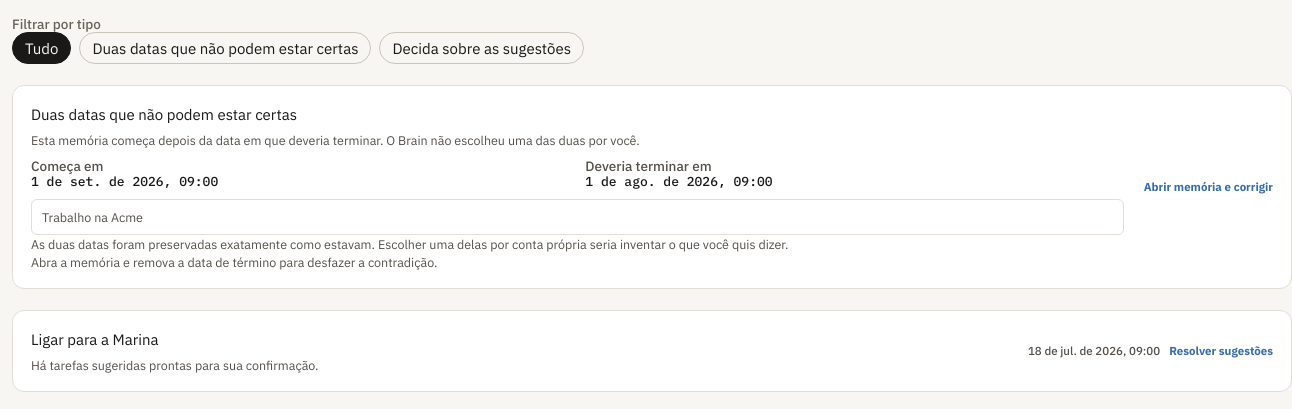
Test: the filter, widened by exactly one › returns everything when 'all' is selected again
This screenshot has width=1292, height=409.
Click the button "Duas datas que não podem estar certas": (226, 48) x1=80 y1=32 x2=372 y2=64
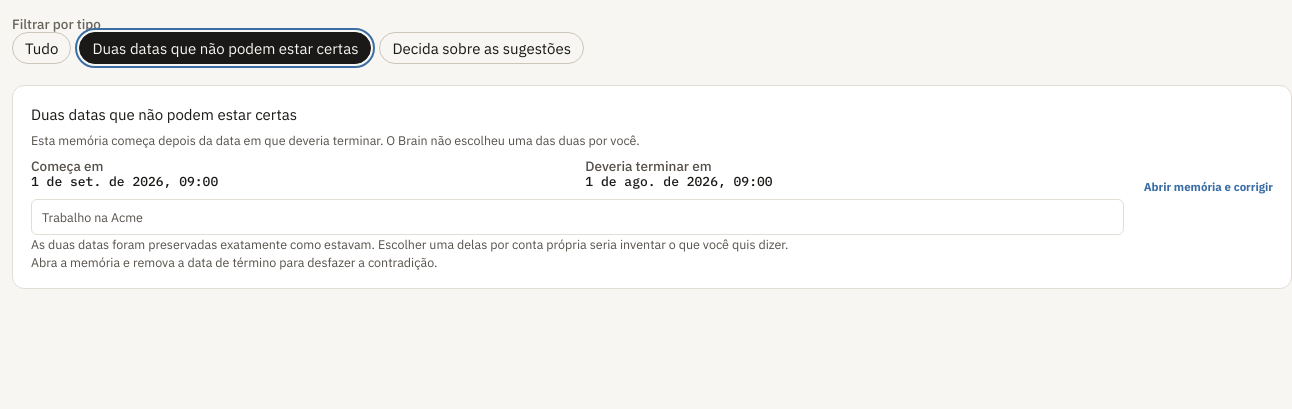
Click the button "Tudo": (42, 48) x1=12 y1=32 x2=72 y2=64
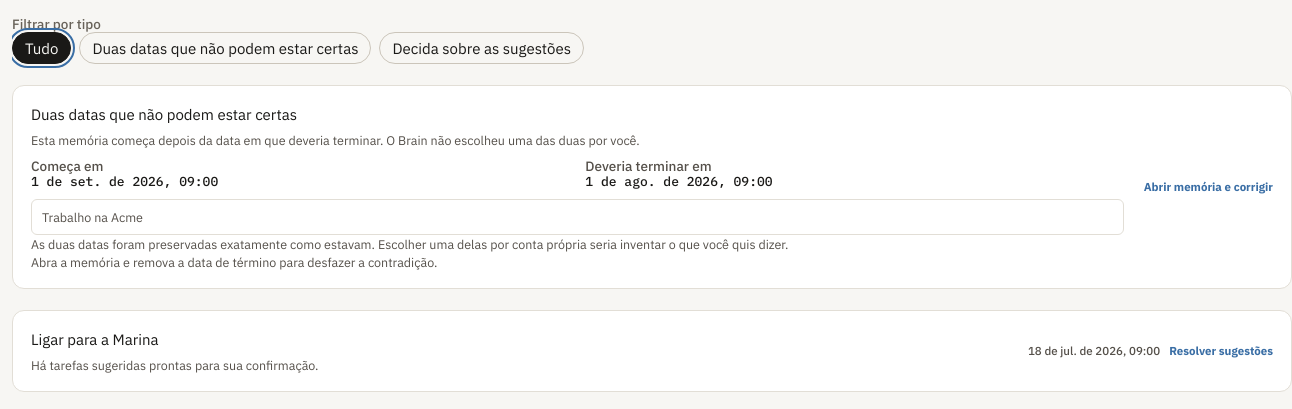
Expected: the text "Duas datas que não podem estar certas" is shown, x1=31 y1=105 x2=297 y2=124
Expected: the text "Ligar para a Marina" is shown, x1=31 y1=330 x2=158 y2=349
